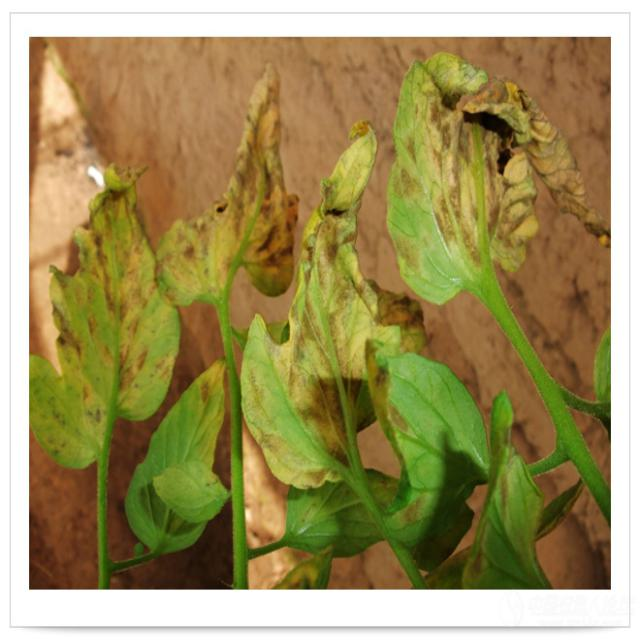Leaf_Mold: (245, 118, 429, 489), (389, 52, 611, 302), (23, 165, 176, 464), (160, 64, 296, 307), (188, 357, 228, 470)
